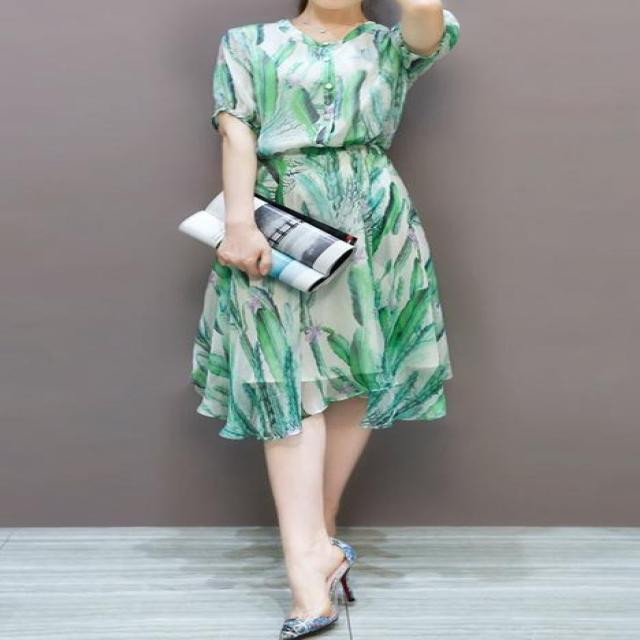short sleeve dress: (192, 9, 460, 441)
